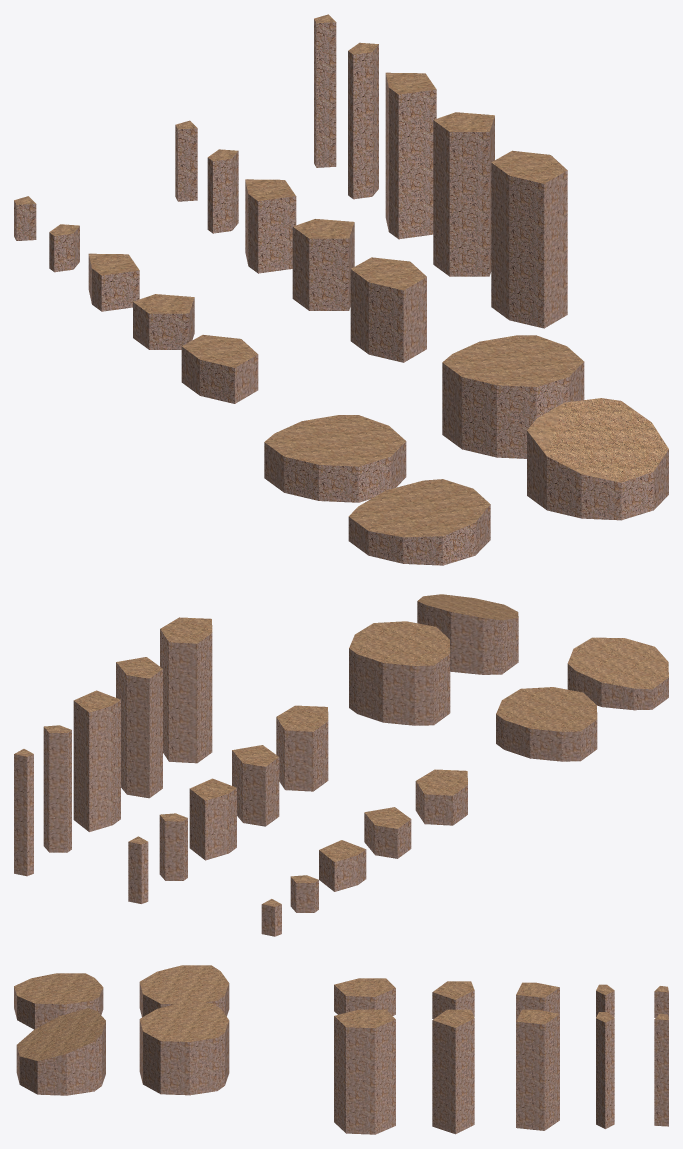
Rendered from rock-components.gltf.
3 views of the same model, one above another, from view 1: azimuth 30°, elevation 25°; view 2: azimuth 150°, elevation 25°; view 3: azimuth 270°, elevation 25° (orthographic). The views are drawn at different scales.
Parts seen in each view (by area): view 1: rock-component-06-MA-, rock-component-06-M-, rock-component-05-L-, rock-component-06-S-, rock-component-06-SA, rock-component-04-L-, rock-component-03-L-, rock-component-05-M-, rock-component-04-M-, rock-component-02-L-, rock-component-03-M-, rock-component-05-S- (+7 smaller); view 2: rock-component-06-M-, rock-component-05-L-, rock-component-06-S-, rock-component-03-L-, rock-component-06-SA, rock-component-06-MA-, rock-component-04-L-, rock-component-05-M-, rock-component-02-L-, rock-component-03-M-, rock-component-04-M-, rock-component-05-S- (+7 smaller); view 3: rock-component-06-M-, rock-component-05-L-, rock-component-06-MA-, rock-component-03-L-, rock-component-04-L-, rock-component-06-SA, rock-component-06-S-, rock-component-02-L-, rock-component-05-S-, rock-component-01-L-, rock-component-04-S, rock-component-03-S- (+2 smaller).
Part boxes in pixels (<box>): rock-component-06-MA-: <box>527,398,668,520</box>; rock-component-06-M-: <box>442,335,584,458</box>; rock-component-05-L-: <box>491,150,567,328</box>; rock-component-06-S-: <box>264,415,406,502</box>; rock-component-06-SA: <box>348,479,490,565</box>; rock-component-04-L-: <box>433,112,494,276</box>; rock-component-03-L-: <box>385,72,436,239</box>; rock-component-05-M-: <box>350,257,426,362</box>; rock-component-04-M-: <box>292,219,354,310</box>; rock-component-02-L-: <box>348,42,378,199</box>; rock-component-03-M-: <box>245,179,296,273</box>; rock-component-05-S-: <box>181,334,258,403</box>; rock-component-06-M-: <box>349,621,450,725</box>; rock-component-05-L-: <box>160,617,212,763</box>; rock-component-06-S-: <box>496,687,597,761</box>; rock-component-03-L-: <box>73,690,120,831</box>; rock-component-06-SA: <box>567,637,668,710</box>; rock-component-06-MA-: <box>417,594,518,674</box>; rock-component-04-L-: <box>116,657,162,798</box>; rock-component-05-M-: <box>276,705,328,791</box>; rock-component-02-L-: <box>43,725,71,852</box>; rock-component-03-M-: <box>189,778,236,860</box>; rock-component-04-M-: <box>232,745,279,826</box>; rock-component-05-S-: <box>415,769,467,825</box>; rock-component-06-M-: <box>139,1002,229,1095</box>; rock-component-05-L-: <box>334,1009,395,1134</box>; rock-component-06-MA-: <box>16,1008,105,1095</box>; rock-component-03-L-: <box>516,1009,559,1130</box>; rock-component-04-L-: <box>432,1009,474,1134</box>; rock-component-06-SA: <box>14,973,103,1029</box>; rock-component-06-S-: <box>139,965,229,1017</box>; rock-component-02-L-: <box>596,1012,614,1128</box>; rock-component-05-S-: <box>334,978,395,1015</box>; rock-component-01-L-: <box>654,1013,668,1126</box>; rock-component-04-S: <box>432,981,474,1019</box>; rock-component-03-S-: <box>516,982,559,1020</box>.
Size of the model in its own units: 2956 by 1024 by 5712.
2 materials, 2 textured.
